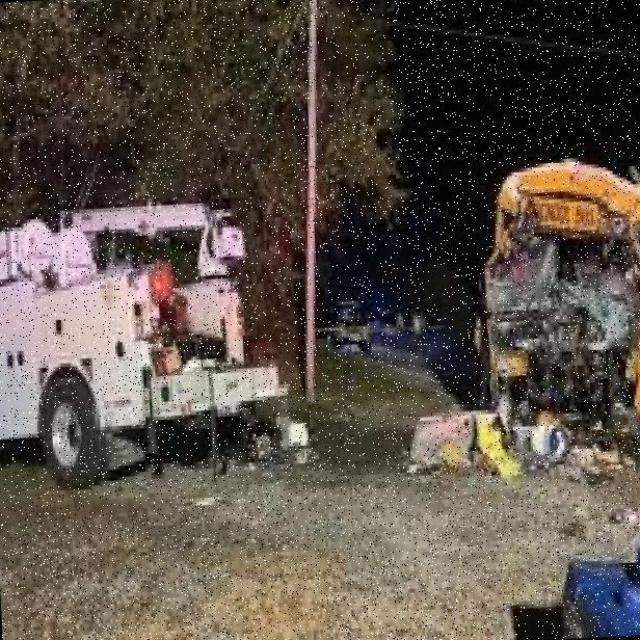accident: (457, 104, 640, 486)
